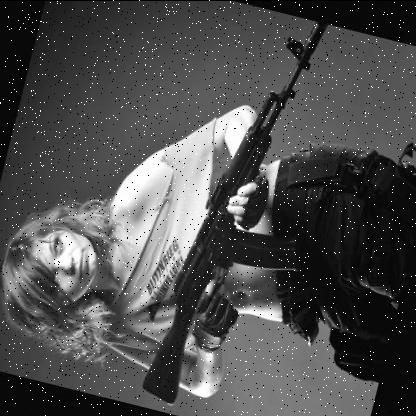rifle: (113, 0, 365, 416)
